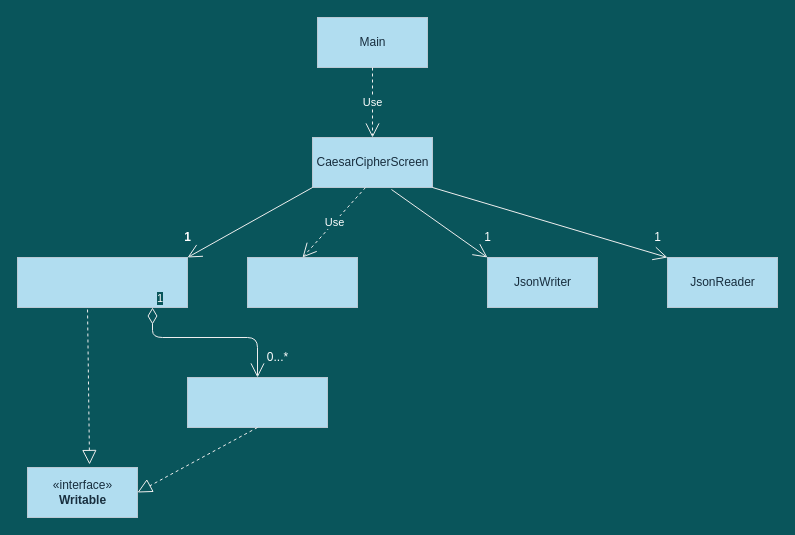
The diagram is 795 pixels wide and 535 high, and some of its shapes have lost their labels. Each missing label, with the centre of its shape:
"CaesarCipher" goes at [302,282].
"CryptographyOperation" goes at [257,402].
"CryptographyOperationsList" goes at [102,282].
